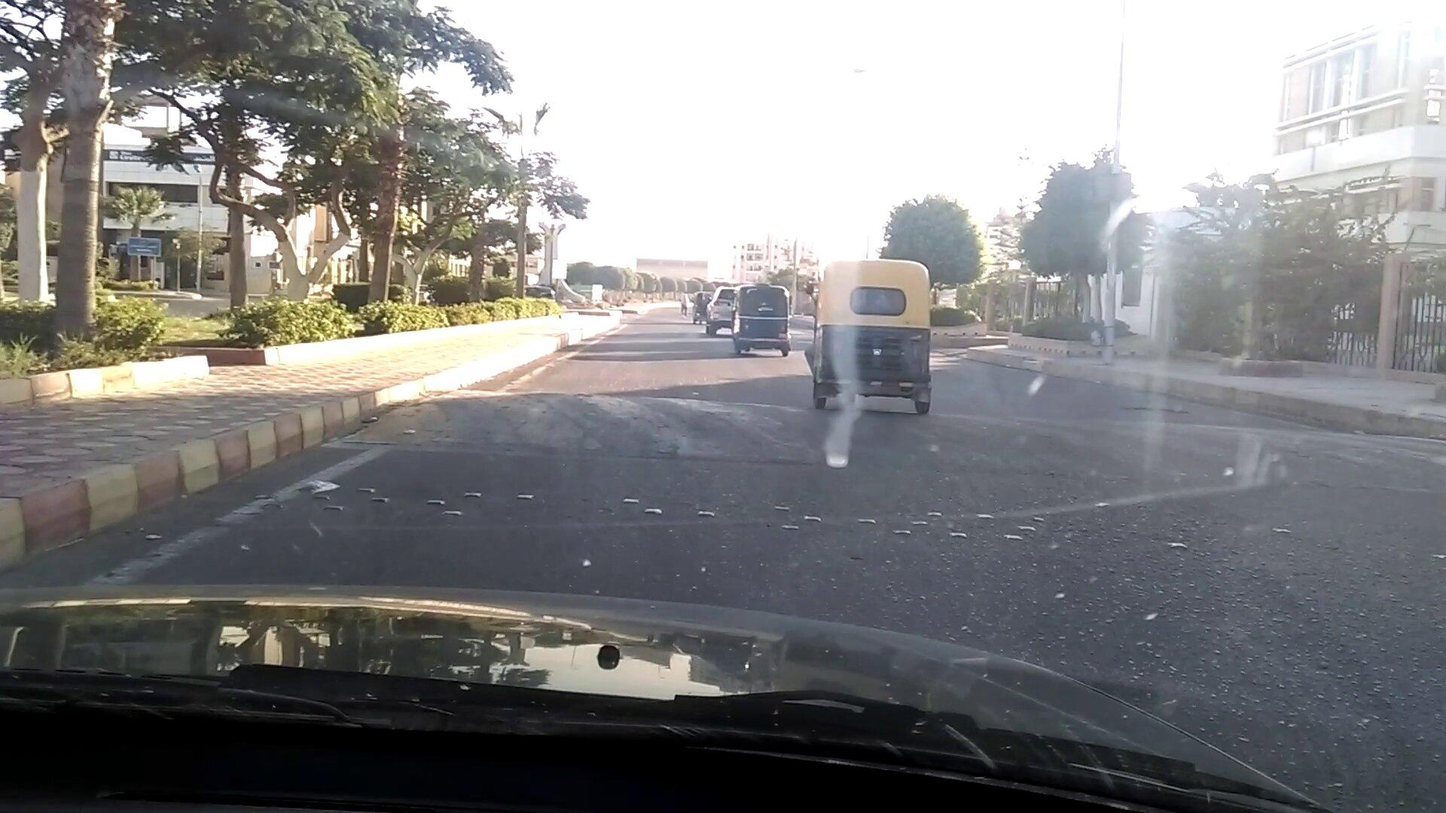Bump: (410, 384, 1446, 480)
